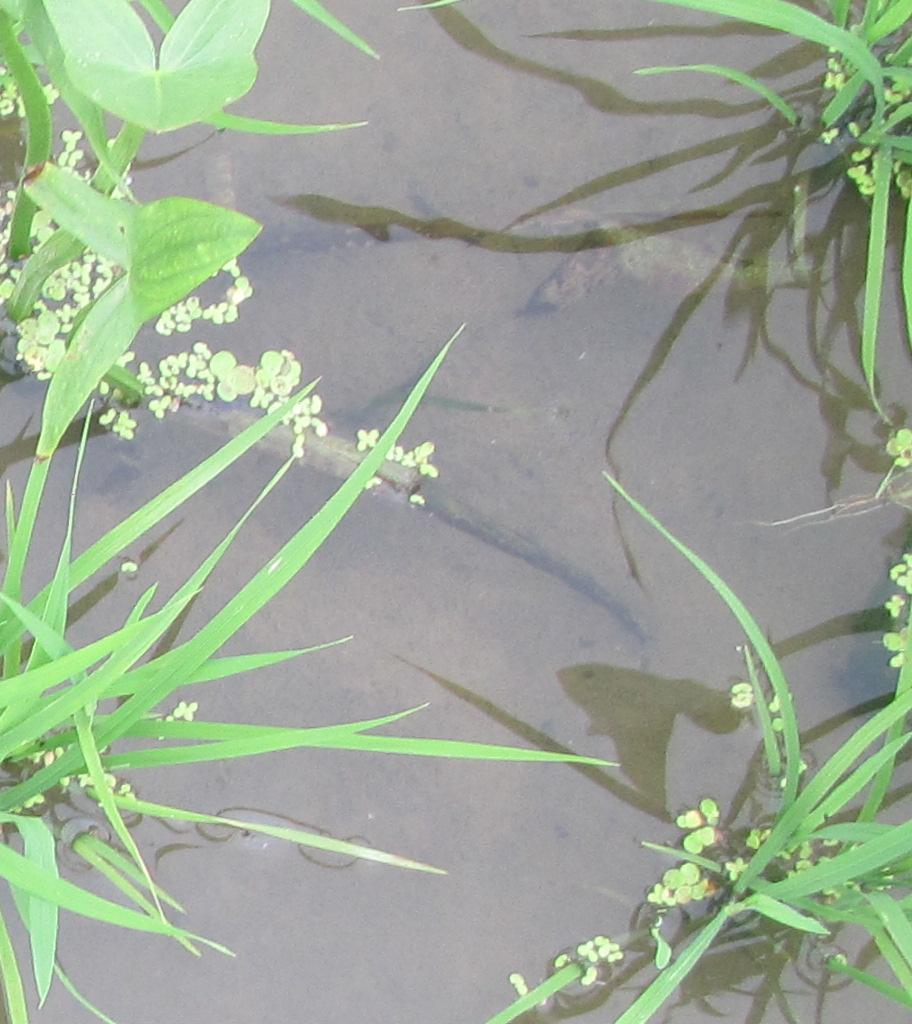Weed: (27, 169, 274, 366), (44, 2, 278, 138)
